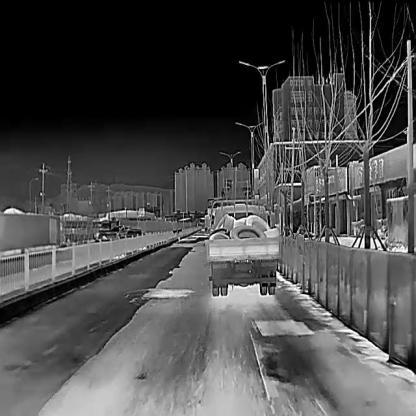car: (207, 198, 280, 296), (92, 231, 120, 247), (124, 228, 143, 239)
